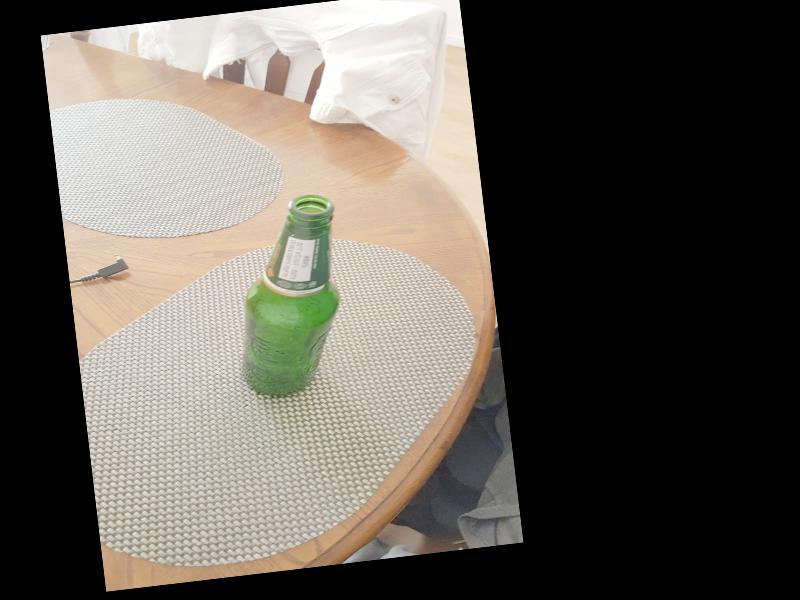Beer: (222, 195, 347, 400)
